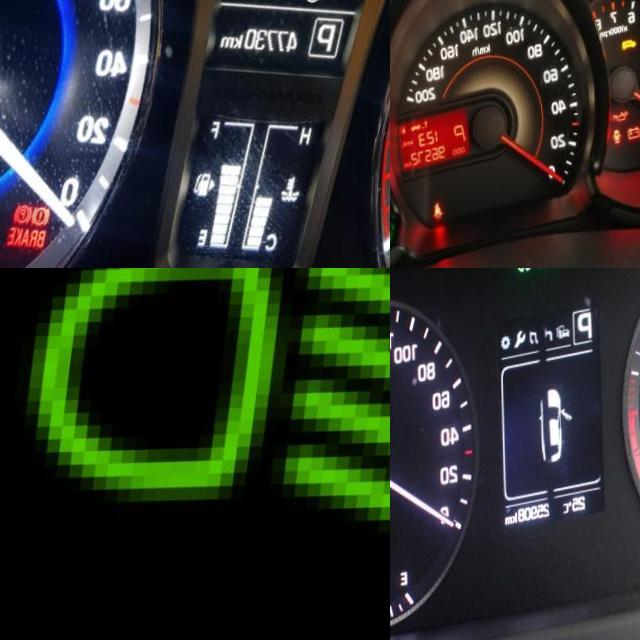Doors: (612, 143, 621, 159)
FrontFogLight: (516, 268, 531, 280)
Low beam: (19, 268, 390, 592)
SideLamp: (536, 268, 558, 275)
